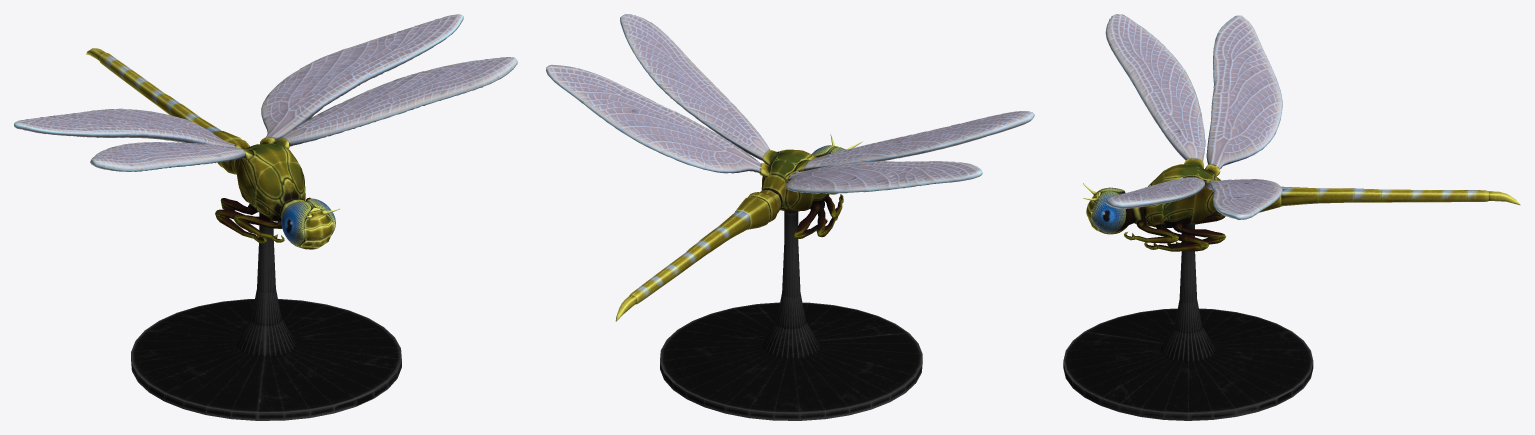
File: MZ4250 - Giant Dragonfly.glb
3 views of the same model, side by side, from view 1: azimuth 30°, elevation 25°; view 2: azimuth 150°, elevation 25°; view 3: azimuth 270°, elevation 25° (orthographic). The views are drawn at different scales.
Parts seen in each view (by area): view 1: dragon_low.001, base_low.001; view 2: dragon_low.001, base_low.001; view 3: dragon_low.001, base_low.001.
Boxes of the visible parts, left/top/right/bottom form: dragon_low.001: left=14, top=14, right=517, bottom=249; base_low.001: left=131, top=213, right=401, bottom=420; dragon_low.001: left=546, top=14, right=1034, bottom=321; base_low.001: left=660, top=211, right=922, bottom=420; dragon_low.001: left=1083, top=14, right=1520, bottom=251; base_low.001: left=1063, top=222, right=1313, bottom=420.
Bounding box in the file's own units: 8.06 × 4.85 × 7.73.
Materials: 1 (1 with a texture image).
